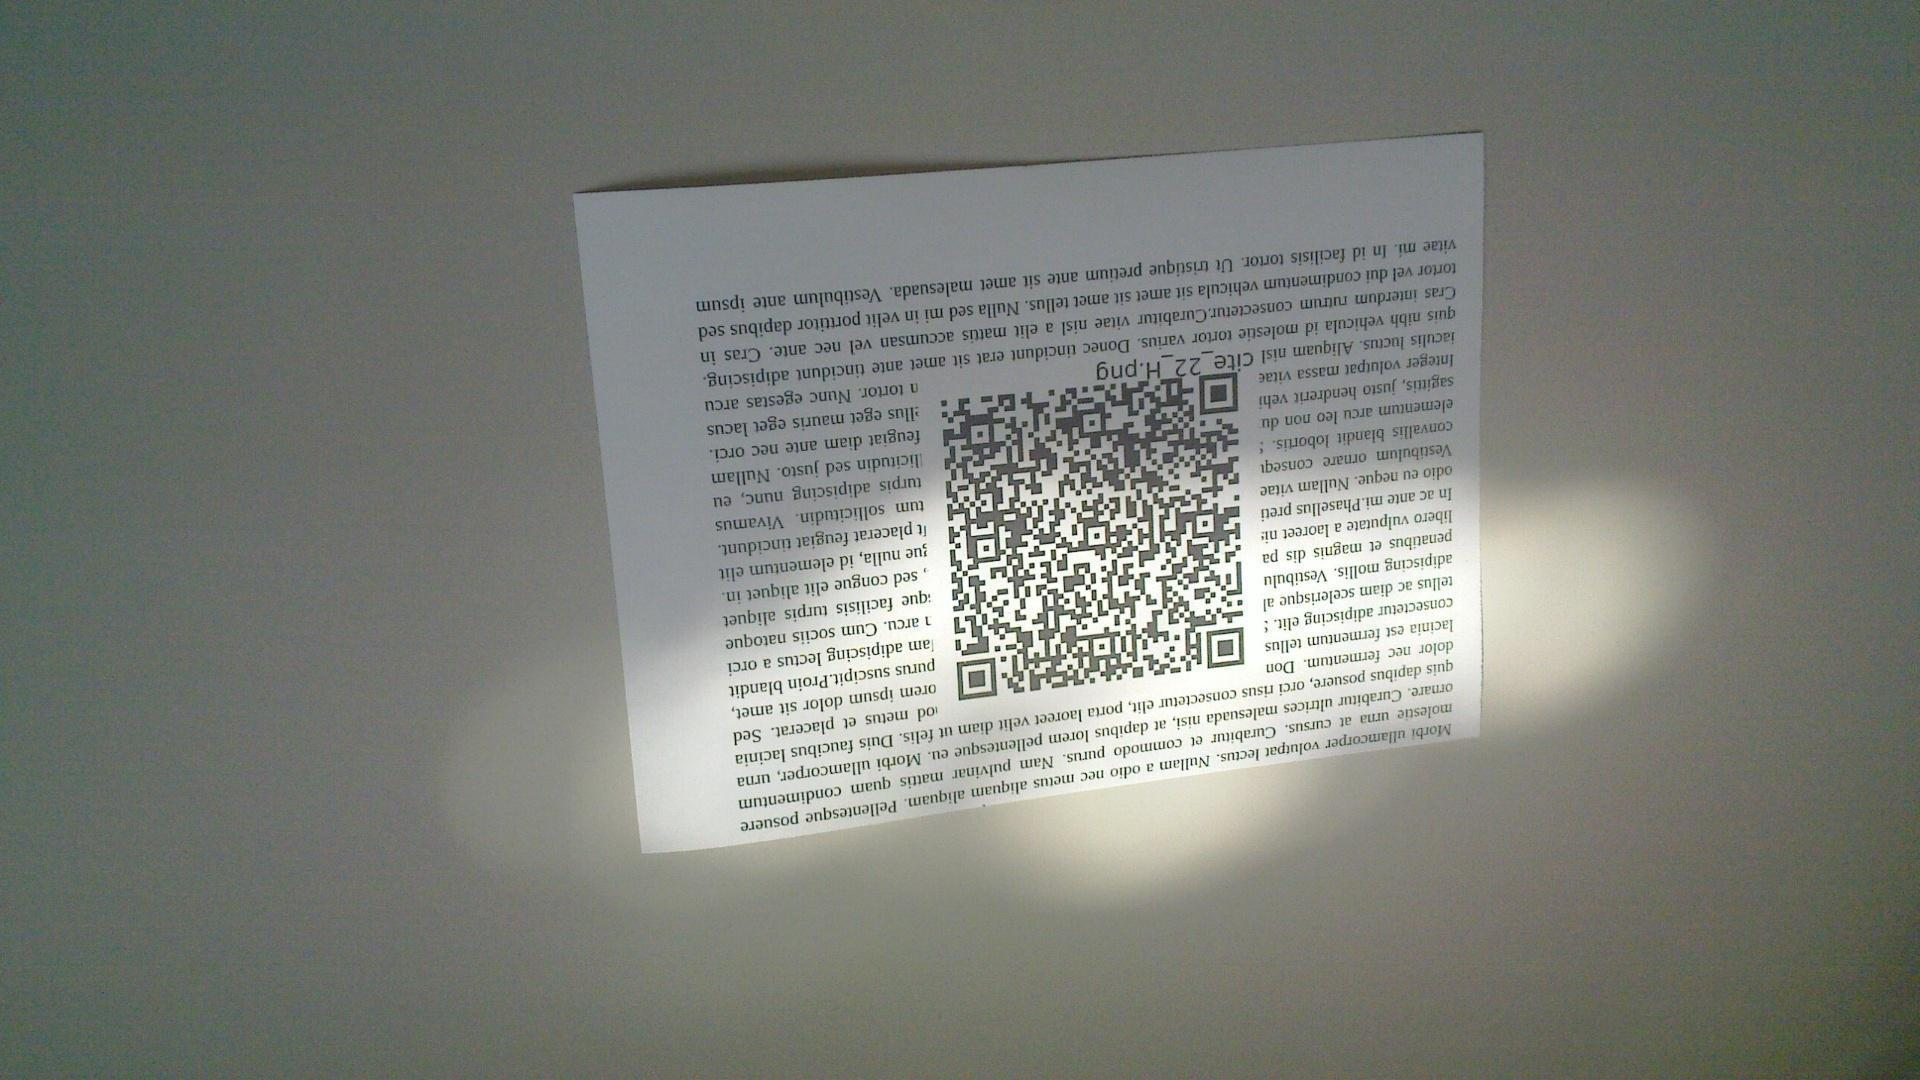qr_code: (939, 371, 1246, 702)
